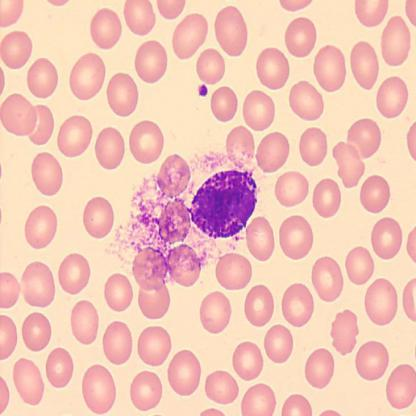Basophil: (186, 167, 258, 241)
